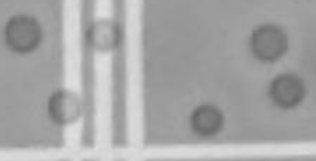cell: (245, 18, 292, 67), (80, 13, 125, 58), (2, 11, 46, 57), (265, 69, 308, 113), (186, 99, 229, 141), (43, 86, 86, 127)
